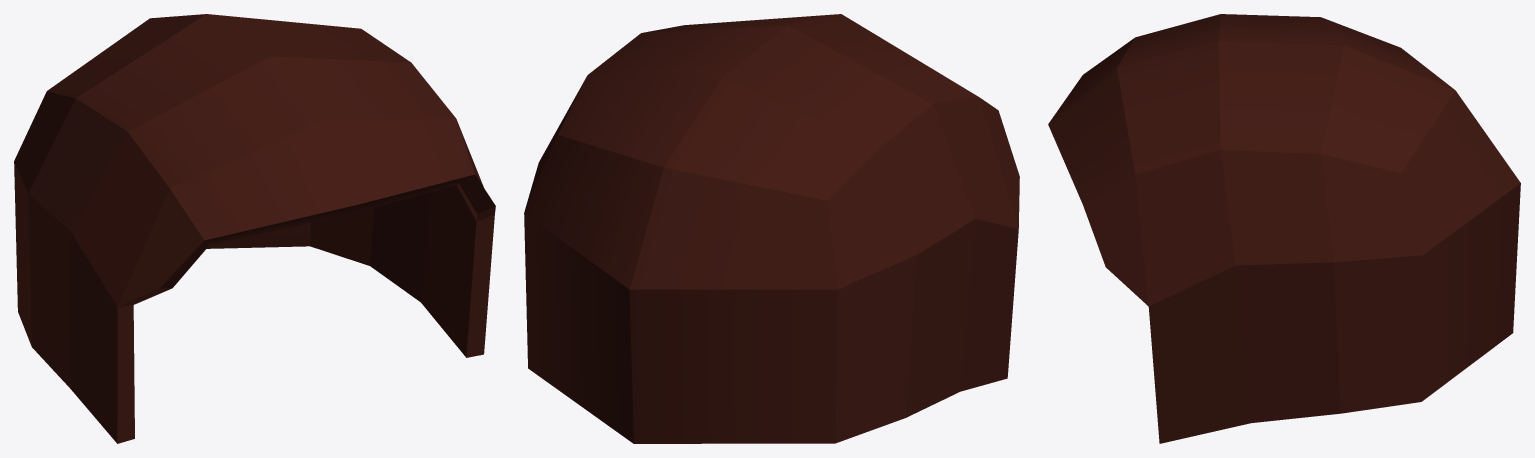
File: Char-model_Female-H_S1.fbx
The picture shows the model from 3 angles, left to right: view 1: azimuth 30°, elevation 25°; view 2: azimuth 150°, elevation 25°; view 3: azimuth 270°, elevation 25°; orthographic projection. The views are drawn at different scales.
Parts seen in each view (by area): view 1: Char_Hair.short; view 2: Char_Hair.short; view 3: Char_Hair.short.
Boxes of the visible parts, left/top/right/bottom form: Char_Hair.short: left=14, top=14, right=495, bottom=443; Char_Hair.short: left=524, top=14, right=1019, bottom=443; Char_Hair.short: left=1048, top=14, right=1520, bottom=443.
Bounding box in the file's own units: 173 × 139 × 189.
